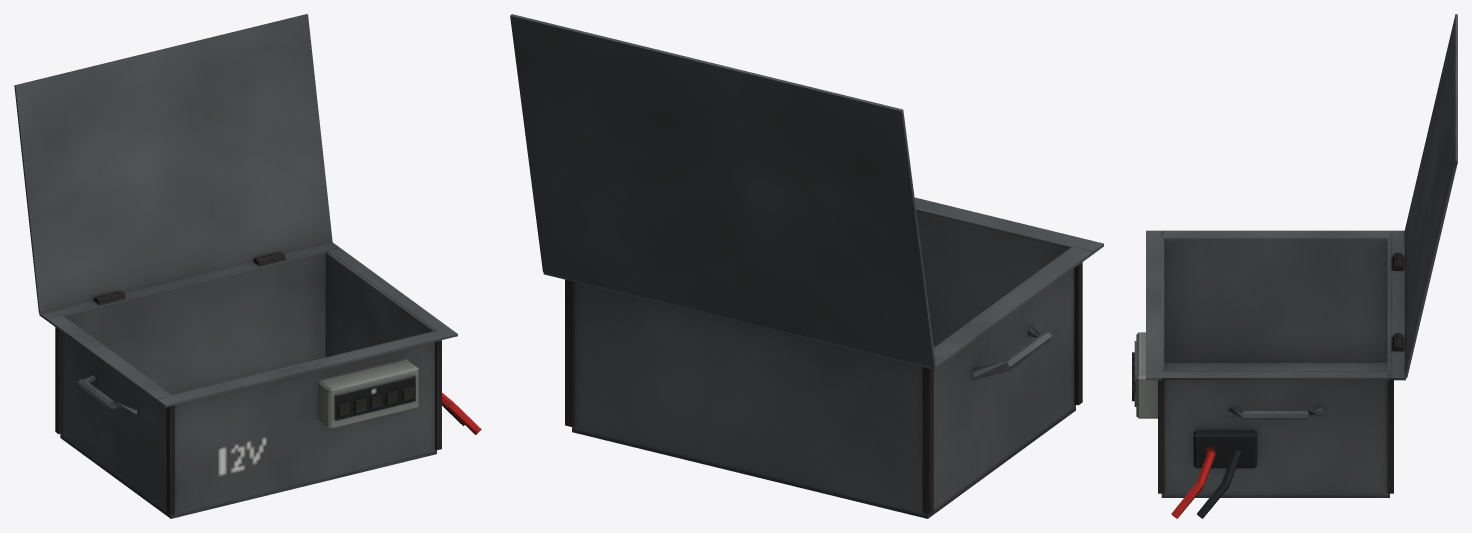
Rendered from RenewableEnergy_BatteryBoxMetal.fbx.
3 renders of one model, left to right at view 1: azimuth 30°, elevation 25°; view 2: azimuth 150°, elevation 25°; view 3: azimuth 270°, elevation 25°, orthographic. The views are drawn at different scales.
Visible parts, largest first — view 1: BatteryBoxMetal; view 2: BatteryBoxMetal; view 3: BatteryBoxMetal.
Boxes of the visible parts, x1=… form: BatteryBoxMetal: x1=14, y1=14, x2=481, y2=518; BatteryBoxMetal: x1=510, y1=14, x2=1103, y2=518; BatteryBoxMetal: x1=1132, y1=14, x2=1457, y2=518.
Size of the model in its own units: 0.6372 by 0.597 by 0.514.
